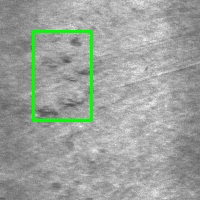rolled-in_scale: (33, 31, 91, 120)
